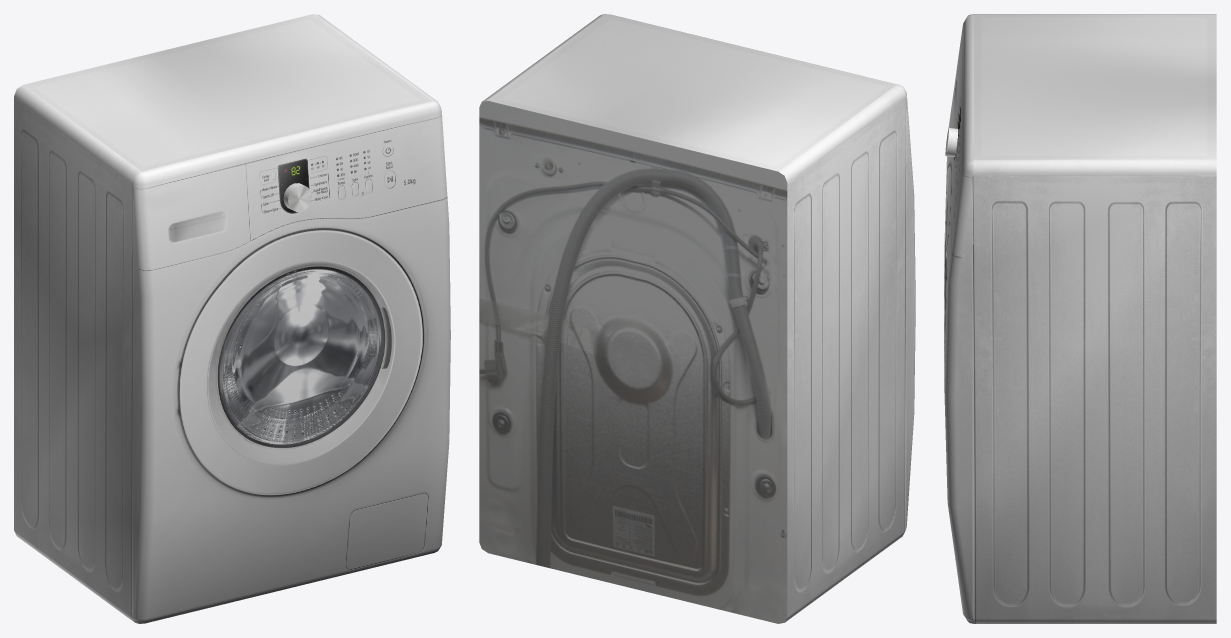
The model's file is Washer.FBX.
3 views of the same model, side by side, from view 1: azimuth 30°, elevation 25°; view 2: azimuth 150°, elevation 25°; view 3: azimuth 270°, elevation 25° (orthographic). The views are drawn at different scales.
Parts seen in each view (by area): view 1: Washer; view 2: Washer; view 3: Washer.
Part boxes in pixels (box(x1,y1,x2,y2)): Washer: box(14, 14, 450, 623); Washer: box(479, 14, 915, 623); Washer: box(944, 14, 1216, 623).
Size of the model in its own units: 30.65 by 43.01 by 22.86.
